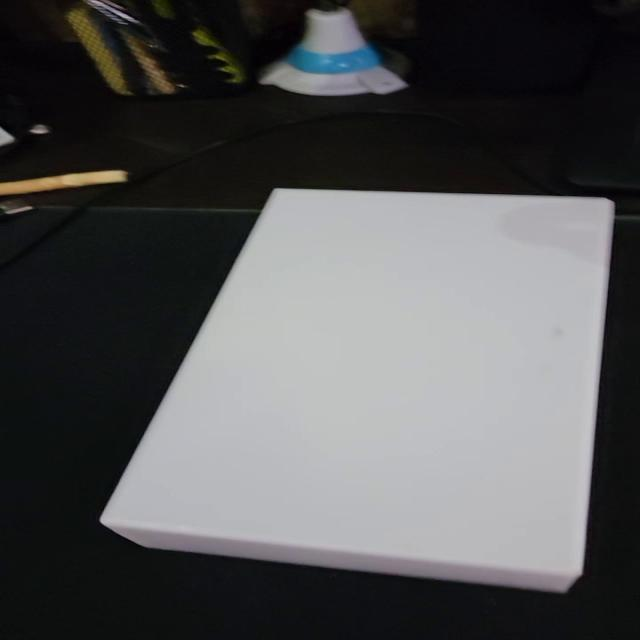Organik: (92, 183, 618, 592)
